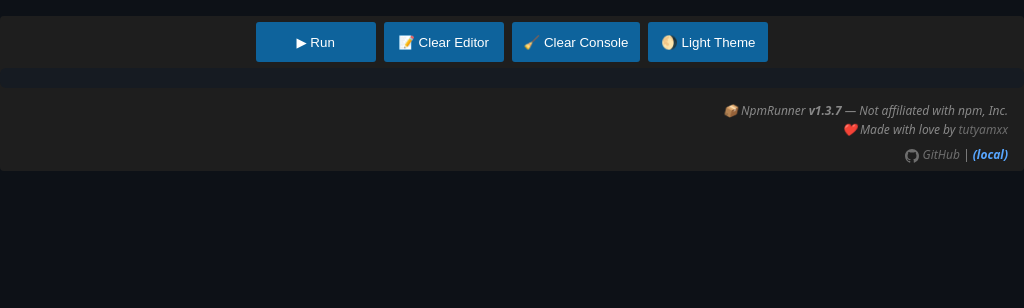
🏖️ Runner Component › Shows fancy "Building bundle" message while code is running
What coordinates should you click on to do the following:
click the button "▶ Run"
I would click on:
 (316, 42)
Its box is [256, 22, 376, 62].
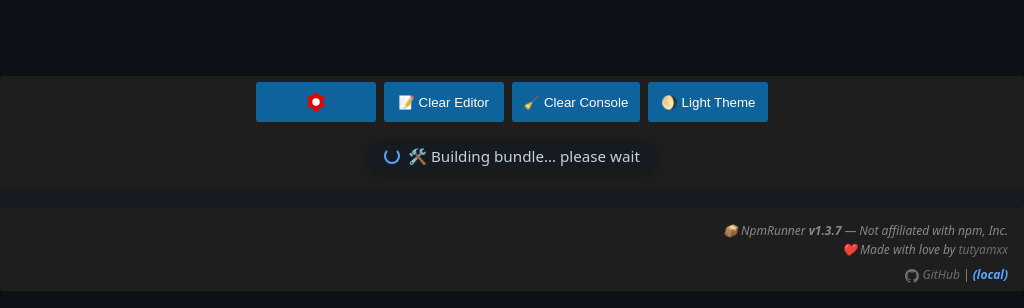
expect the element with class "runner-loading-fancy-container" is shown: met, box [368, 140, 656, 172]
expect the element with class "runner-loading-fancy-container" shows "Building bundle": met, box [408, 146, 640, 166]
